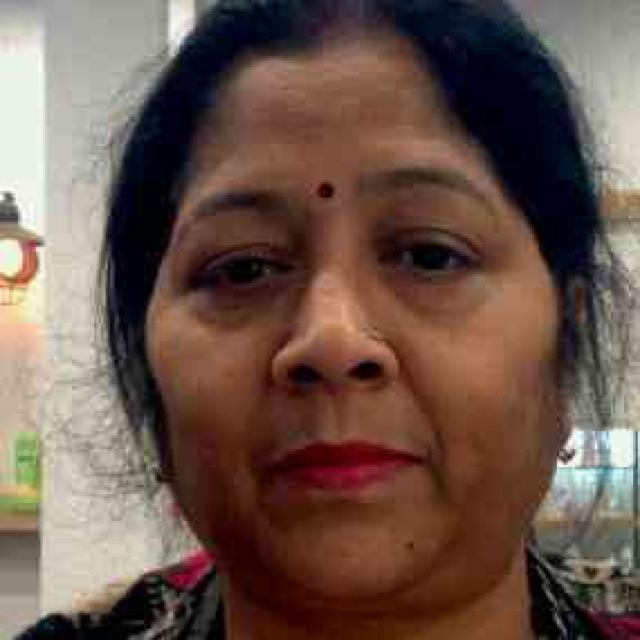Puffy Eyes - v3 Dark Circle: (370, 272, 499, 324), (171, 283, 287, 324)
